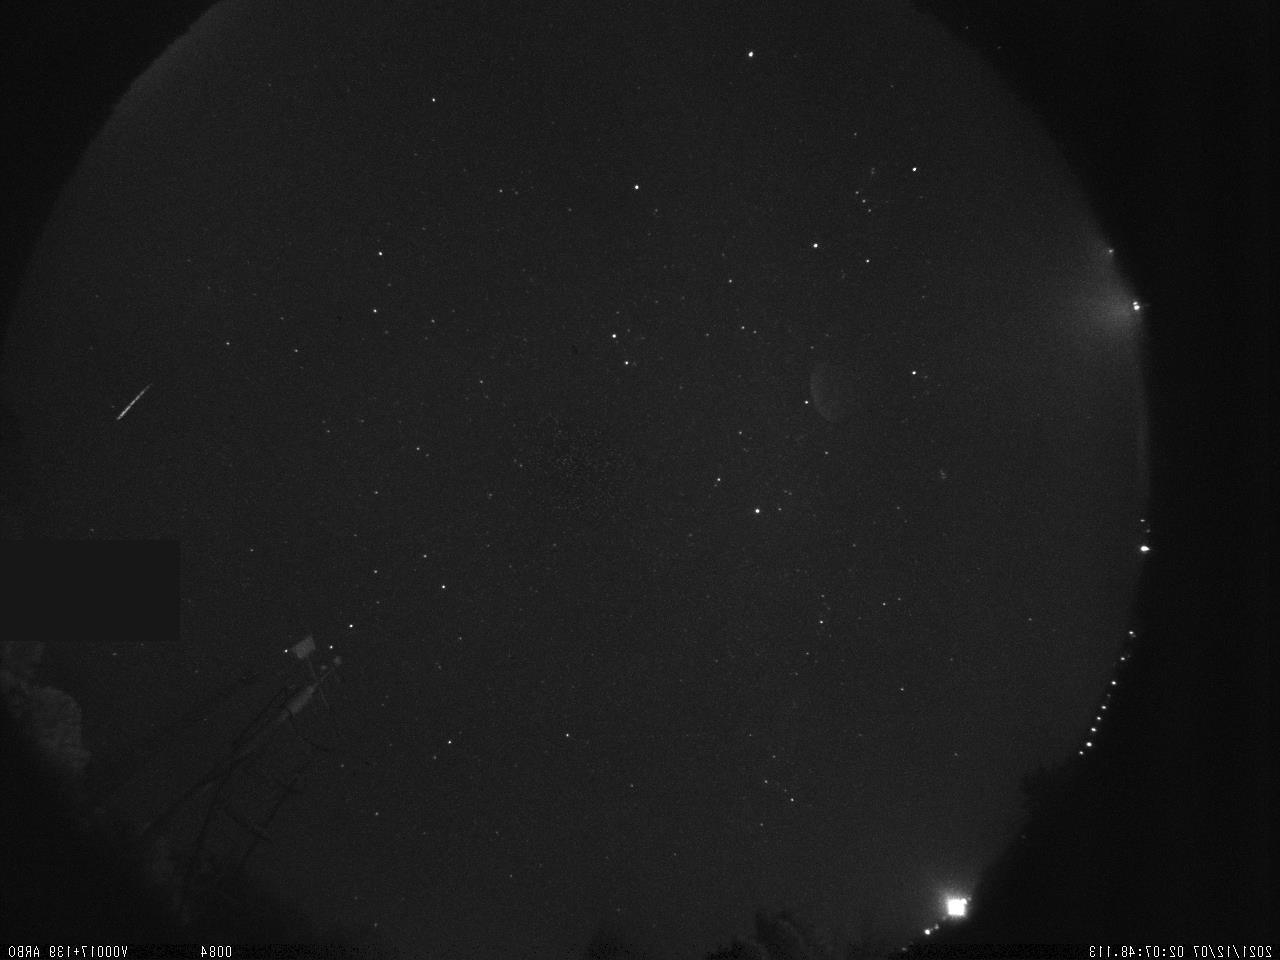meteor: (81, 344, 190, 455)
